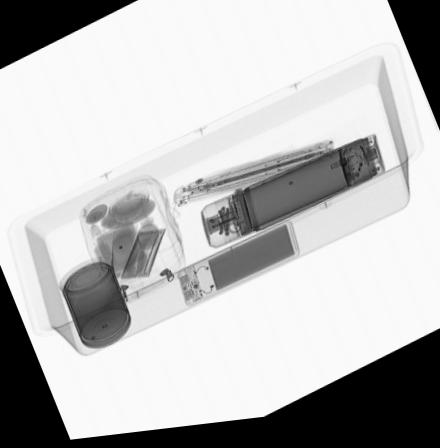Powerbank: (173, 226, 299, 314)
